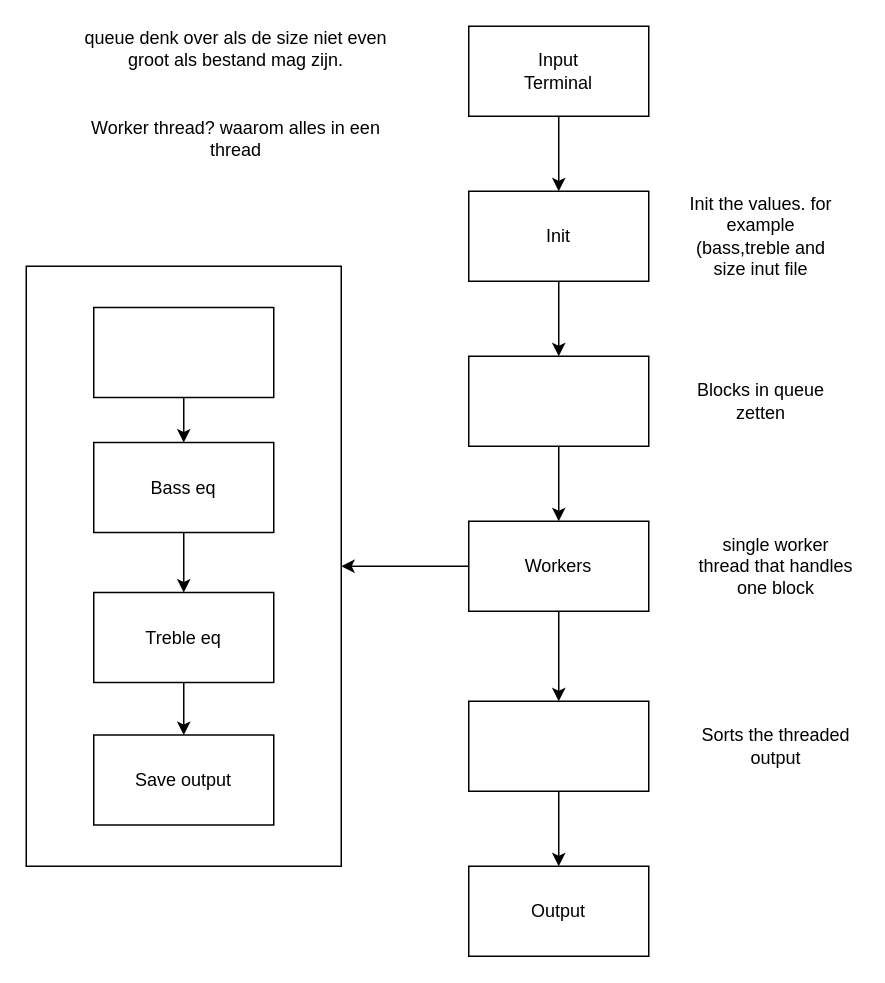
Image size: 885x983. Some labels were removed from this diagram. Each missing label, with the centre of its shape:
"Get from queue" goes at (183,352).
"Queue blocks" goes at (558,400).
"Sorting" goes at (558,745).
